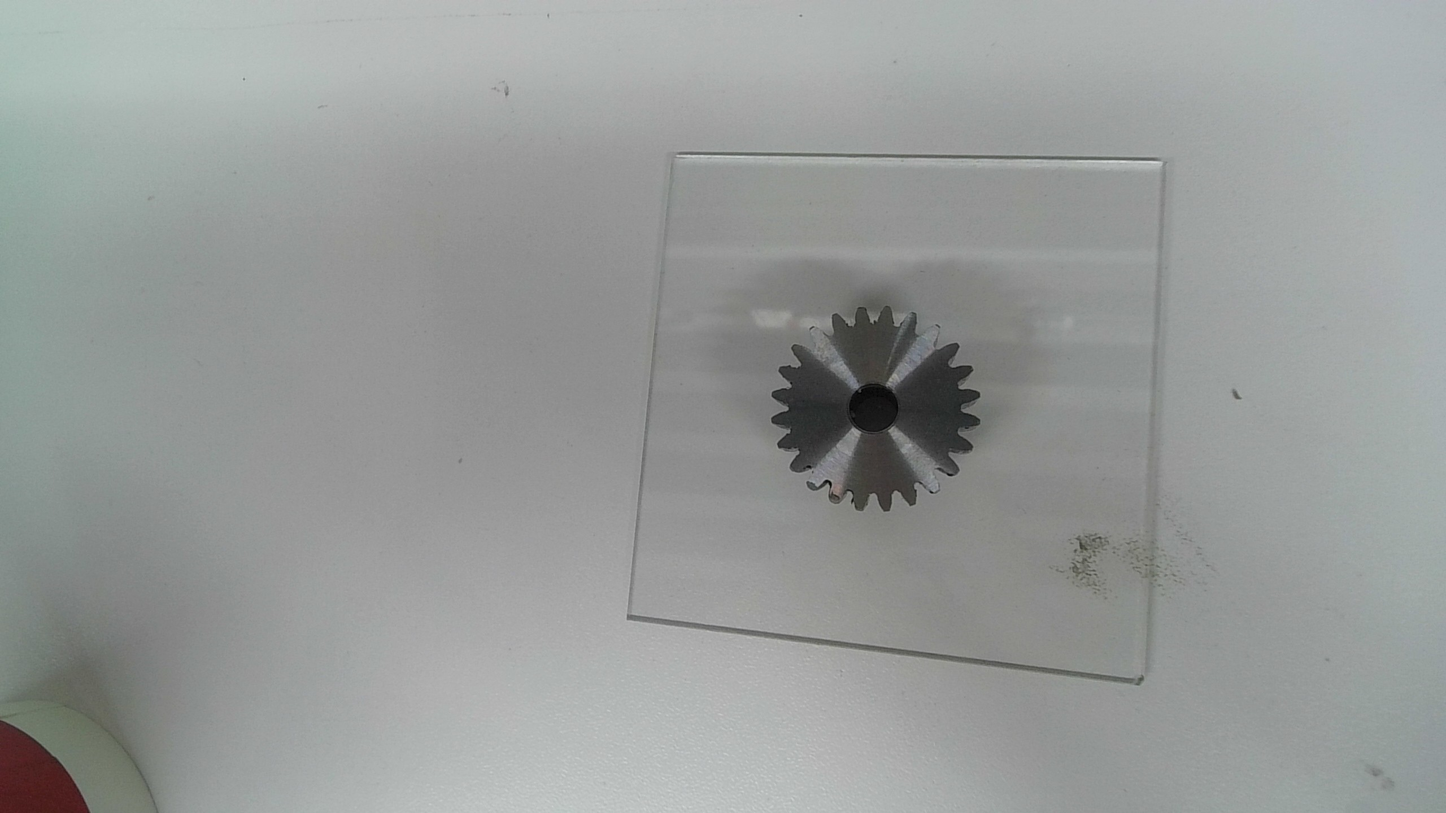gear: (767, 301, 984, 514)
